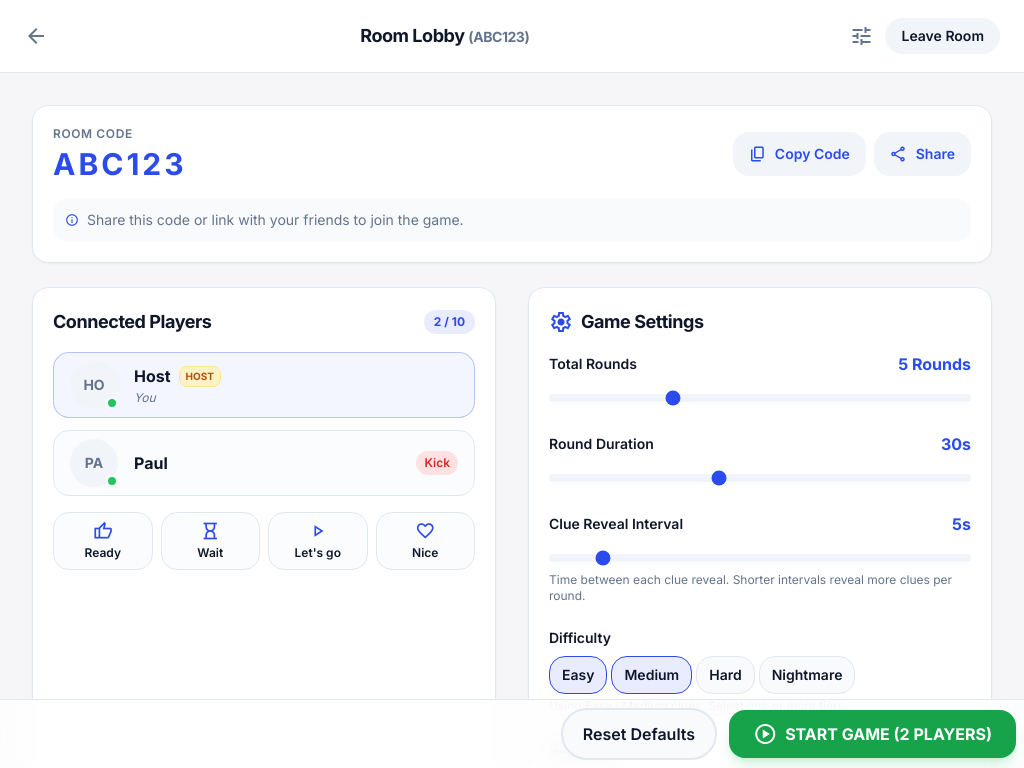
Test: Lobby › kicking a player › asks for confirmation instead of kicking immediately
The image size is (1024, 768).
Click the button with aria-label "Kick Paul".
click(437, 463)  # box [416, 451, 458, 475]
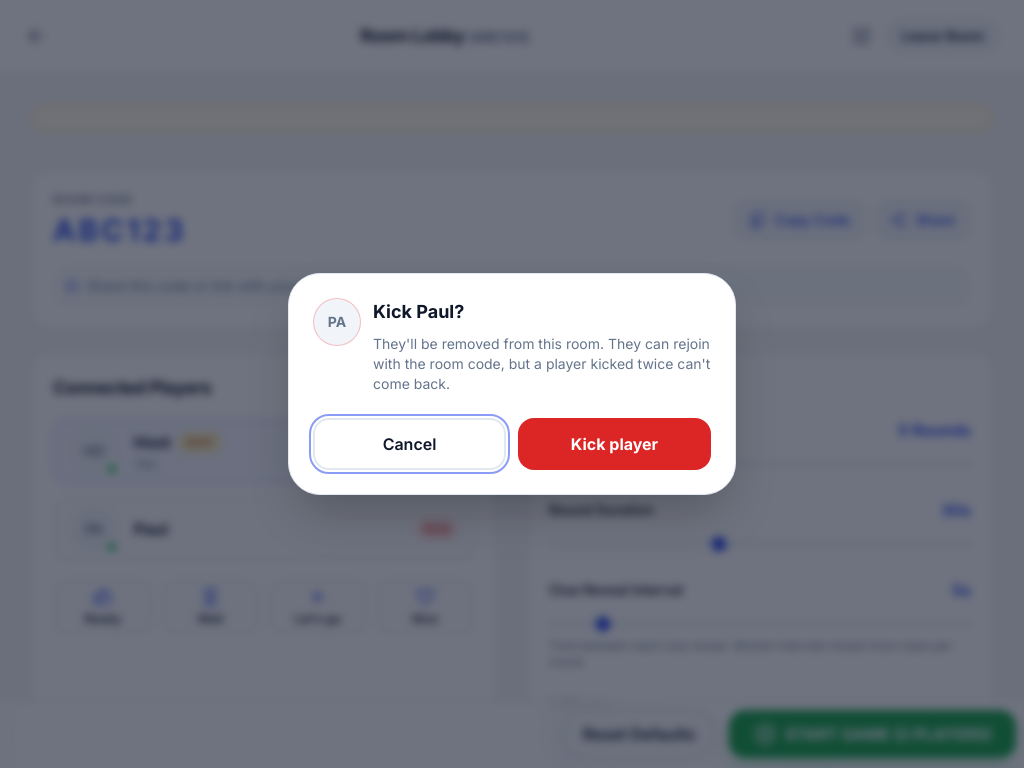
Result: the dialog "Kick Paul?" is shown at [288, 273, 736, 495]
Result: the text "a player kicked twice can.t come back" is shown at [373, 335, 710, 392]
